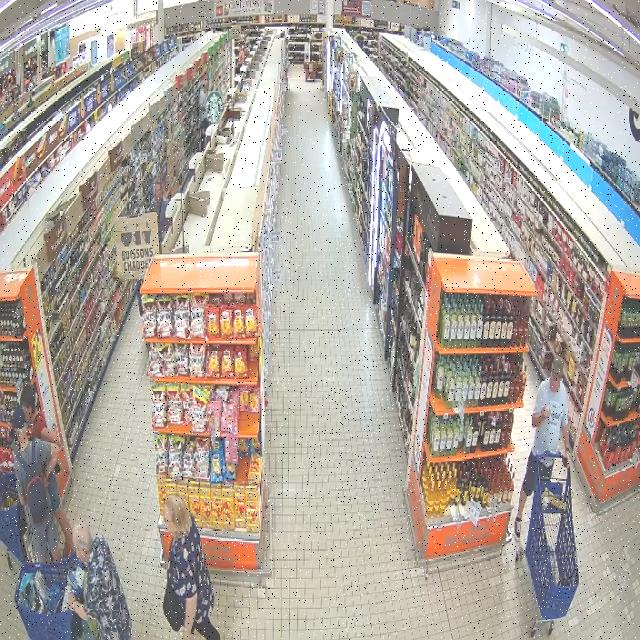bags: (15, 444, 49, 524), (163, 572, 185, 632)
hands: (563, 449, 570, 468), (182, 628, 192, 639), (69, 593, 76, 608), (542, 406, 550, 417), (43, 475, 49, 487)
person: (515, 357, 569, 540), (164, 495, 219, 639), (13, 407, 60, 563), (69, 522, 131, 639), (48, 472, 73, 555), (153, 183, 170, 252)
